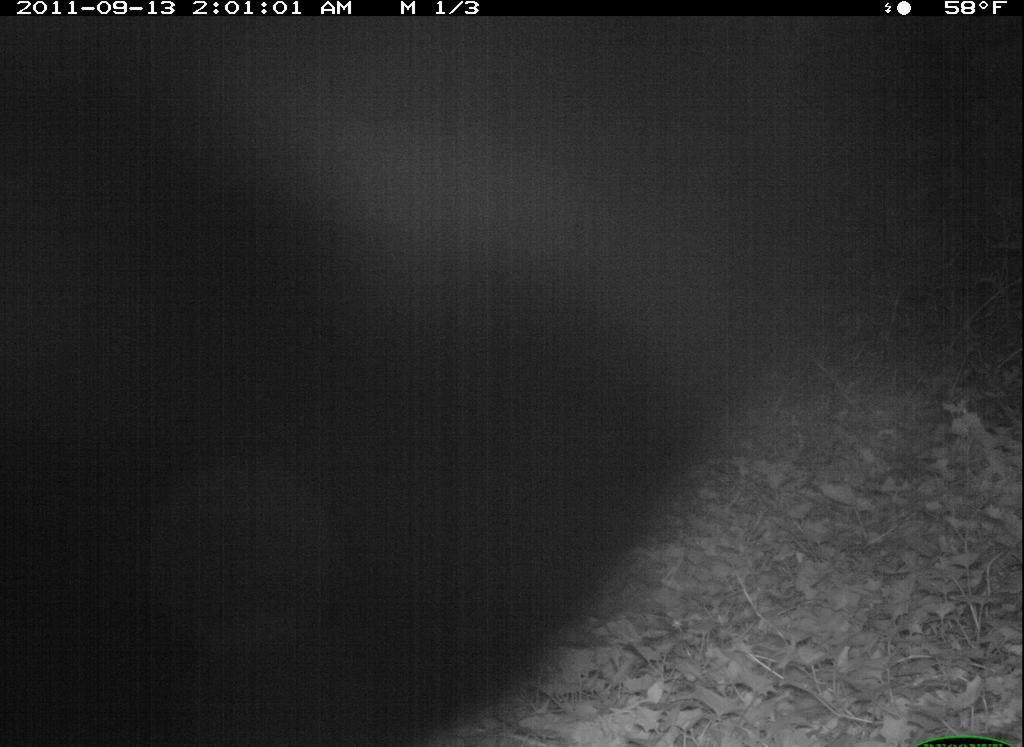coyote: (7, 71, 747, 639)
